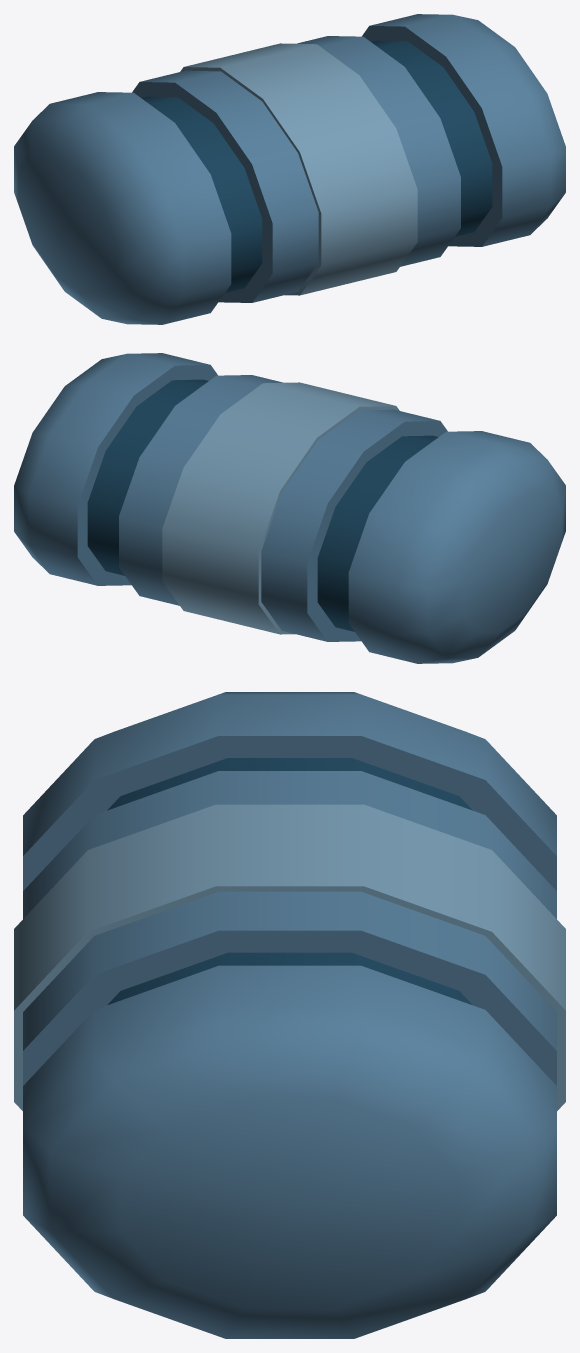
Rendered from newshv-171.glb.
3 renders of one model, top to bottom at view 1: azimuth 30°, elevation 25°; view 2: azimuth 150°, elevation 25°; view 3: azimuth 270°, elevation 25°, orthographic. The views are drawn at different scales.
Visible parts, largest first — view 1: newshv-171; view 2: newshv-171; view 3: newshv-171.
Part boxes in pixels (x1=…): newshv-171: x1=14, y1=14, x2=565, y2=324; newshv-171: x1=14, y1=353, x2=565, y2=663; newshv-171: x1=14, y1=692, x2=565, y2=1338.
Bounding box in the file's own units: 0.8333 × 0.3394 × 0.4991.
